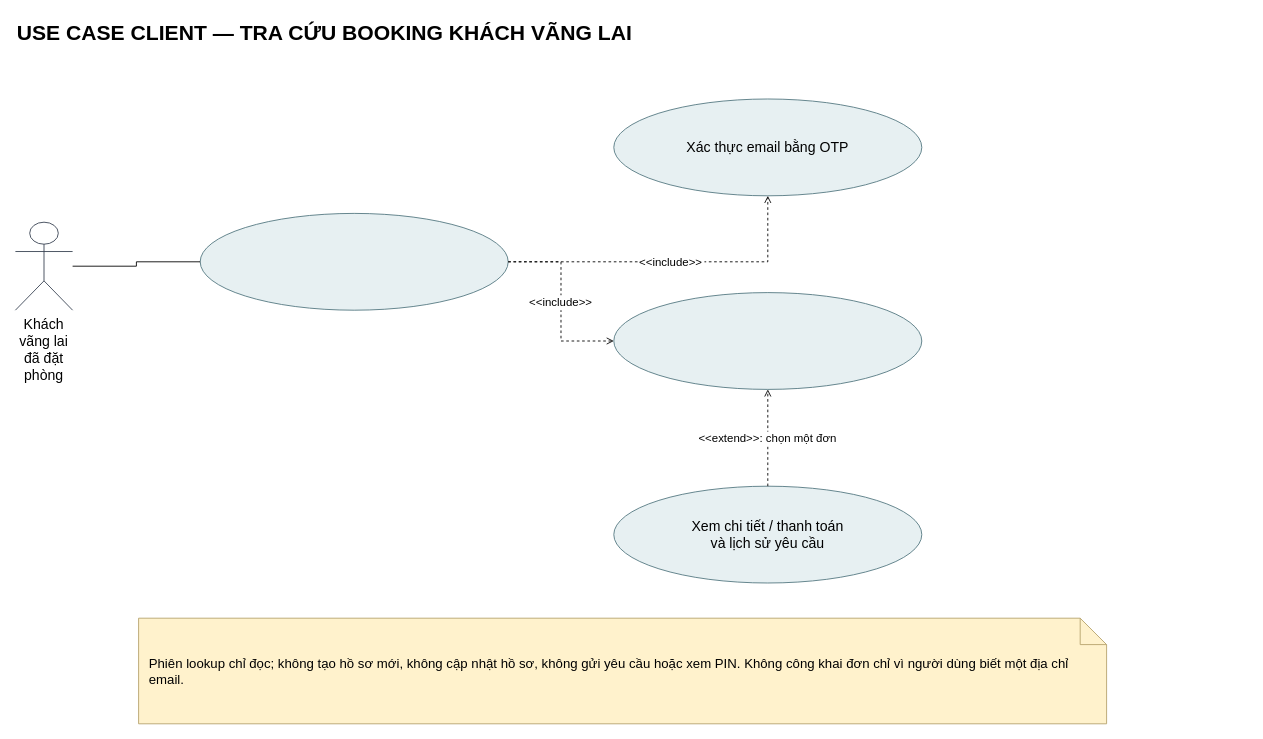
The diagram is 1263 pixels wide and 739 high, and some of its shapes have lost their labels. The centre of each missing label's shape, as x and y in pixels:
Tra cứu booking bằng email người đặt: the point at 353,261
Xem các booking của email đã xác thực: the point at 767,340
